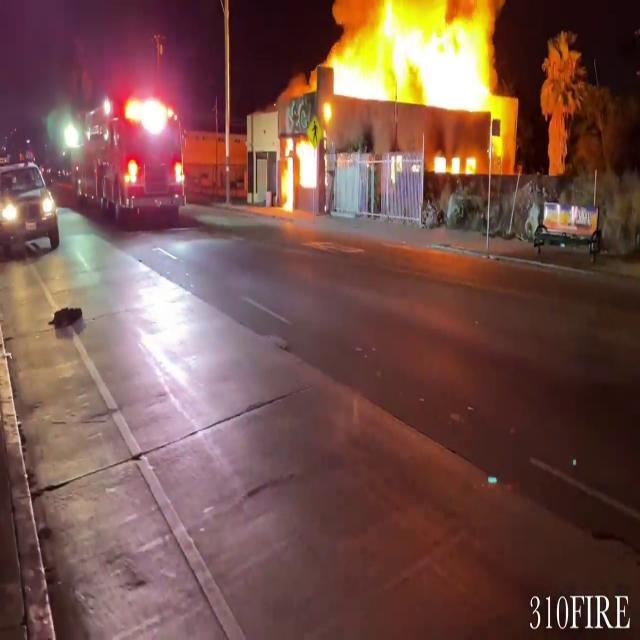Fire: (322, 0, 508, 118), (278, 126, 314, 214)
